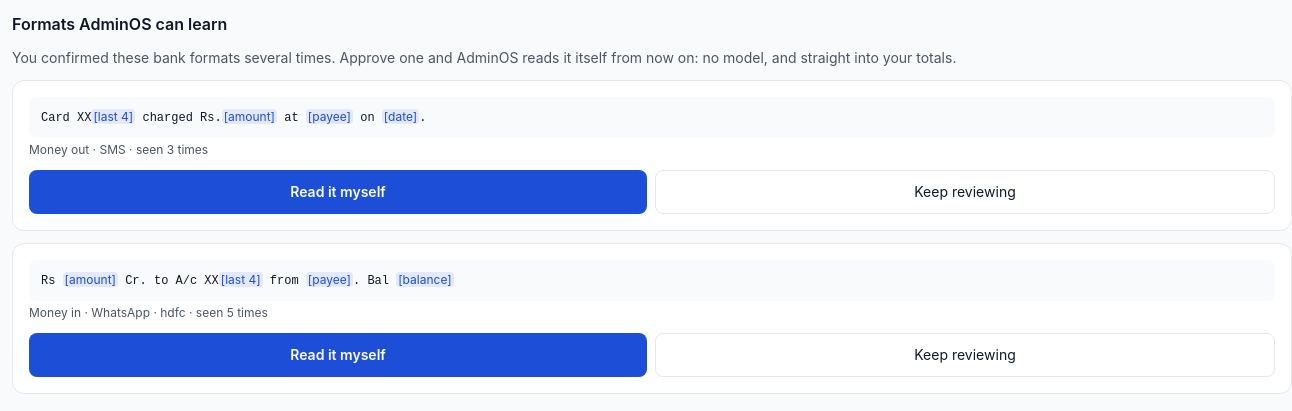
Test: Review → formats AdminOS can learn (AOS-706) › approving a format says what it means and sends it
Click the button "Read it myself" below "Card XX".
click(338, 192)  # box [29, 170, 647, 214]
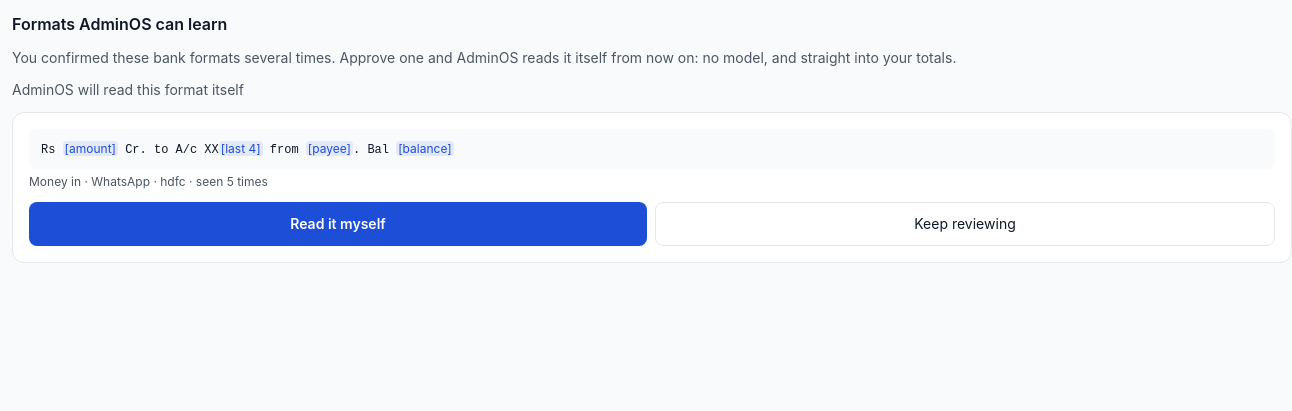
Check: the message reads "AdminOS will read this format itself", box [12, 81, 244, 98]
